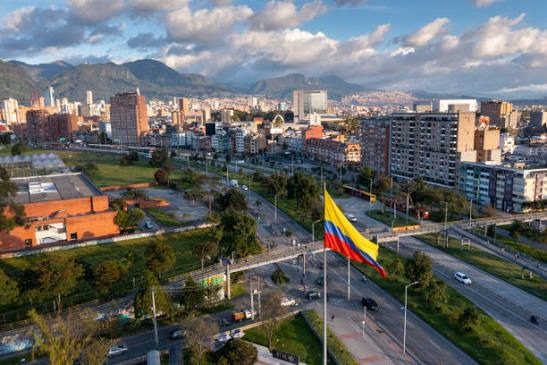car: (1, 325, 39, 361)
